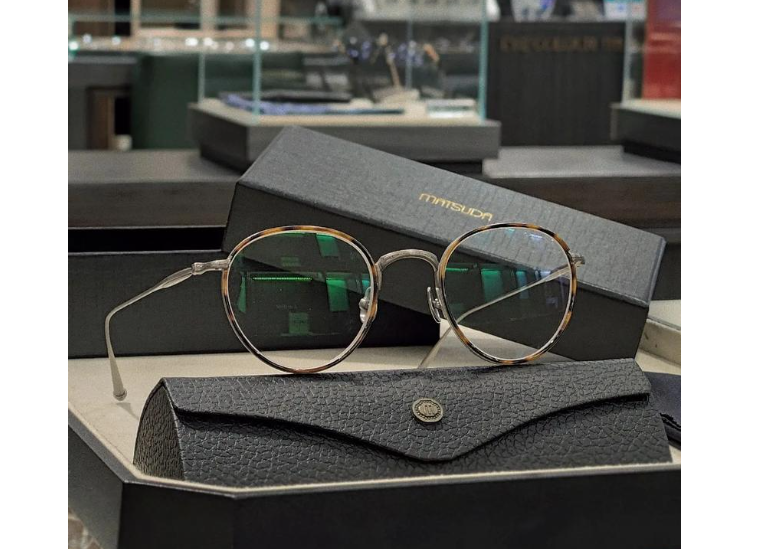glass: (90, 216, 601, 407)
